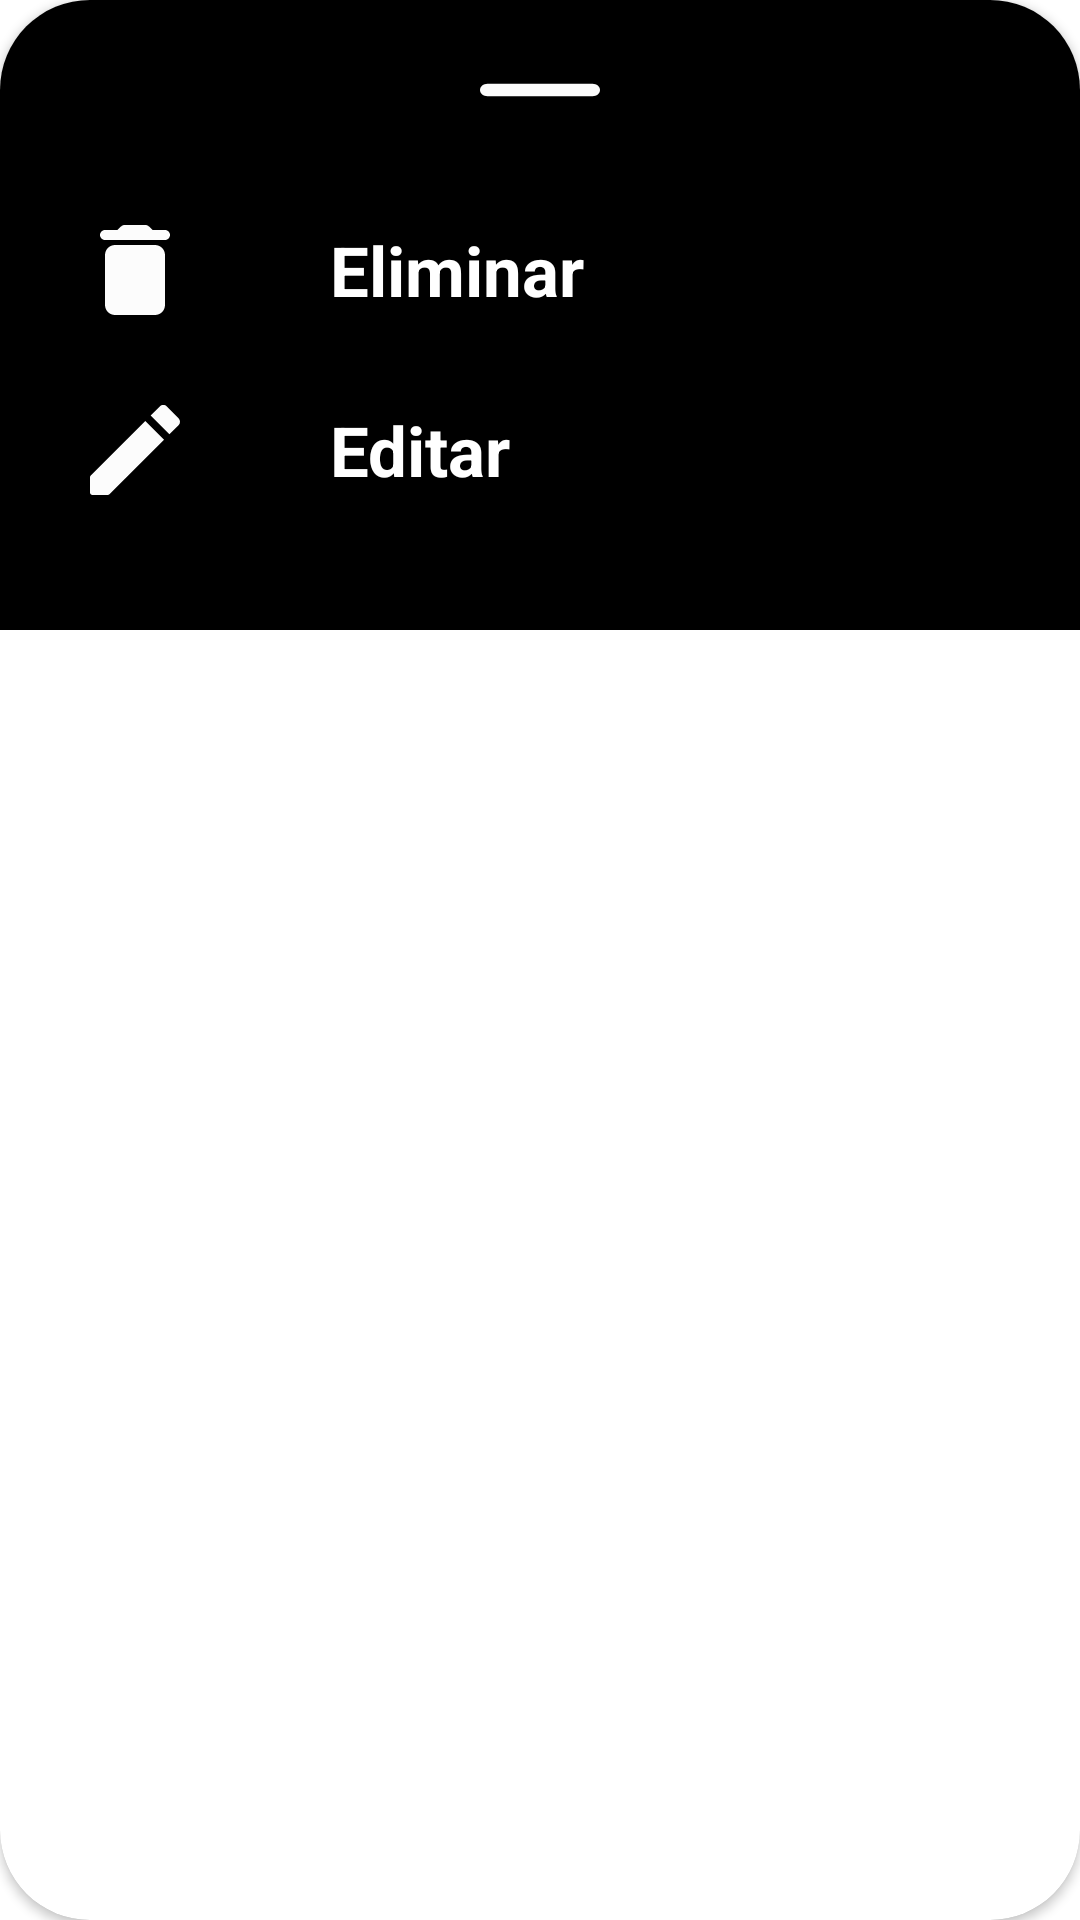

Icons on this 1080*1920 Android screen, each with its box as bbox(x1, y1, x2, y2):
delete: bbox(100, 225, 170, 315)
